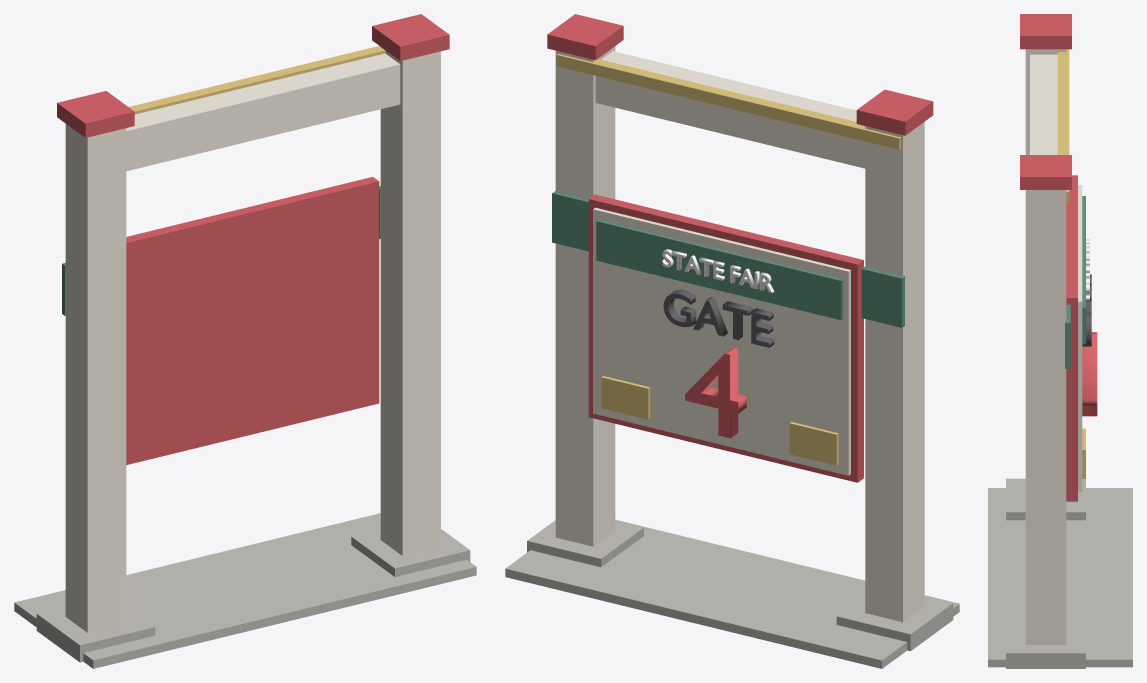
Rendered from state-fair-gate-04.glb.
3 renders of one model, left to right at view 1: azimuth 30°, elevation 25°; view 2: azimuth 150°, elevation 25°; view 3: azimuth 270°, elevation 25°, orthographic. The views are drawn at different scales.
Visible parts, largest first — view 1: SFG_SignBack, SFG_PostL, SFG_PostR, SFG_Pad, SFG_HeaderBeam, SFG_FootingL, SFG_FootingR, SFG_PostCapL, SFG_PostCapR, SFG_HeaderAccent; view 2: SFG_SignFace, SFG_PostL, SFG_Pad, SFG_PostR, SFG_HeaderBeam, SFG_Ribbon, SFG_SignBack, SFG_HeaderAccent, SFG_FootingL, SFG_GateLabel, SFG_GateNumber, SFG_FootingR (+7 smaller); view 3: SFG_PostR, SFG_Pad, SFG_SignBack, SFG_FootingR, SFG_HeaderBeam, SFG_PostCapL, SFG_PostCapR, SFG_SignFace, SFG_HeaderAccent, SFG_FootingL, SFG_GateNumber, SFG_PostL (+4 smaller).
Boxes of the visible parts, box(x1,y1,x2,y2) form: SFG_SignBack: box(126, 177, 379, 464); SFG_PostL: box(65, 124, 126, 632); SFG_PostR: box(380, 47, 440, 555); SFG_Pad: box(14, 513, 476, 668); SFG_HeaderBeam: box(126, 53, 400, 171); SFG_FootingL: box(36, 606, 155, 662); SFG_FootingR: box(351, 529, 470, 576); SFG_PostCapL: box(57, 91, 134, 137); SFG_PostCapR: box(372, 14, 449, 60); SFG_HeaderAccent: box(129, 46, 385, 114); SFG_SignFace: box(593, 207, 850, 475); SFG_PostL: box(865, 122, 924, 622); SFG_Pad: box(505, 519, 959, 668); SFG_PostR: box(555, 46, 615, 546); SFG_HeaderBeam: box(595, 51, 865, 168); SFG_Ribbon: box(596, 220, 843, 320); SFG_SignBack: box(588, 194, 863, 482); SFG_HeaderAccent: box(556, 54, 900, 149); SFG_FootingL: box(836, 596, 953, 651); SFG_GateLabel: box(663, 289, 774, 347); SFG_GateNumber: box(685, 347, 746, 438); SFG_FootingR: box(527, 520, 643, 567); SFG_PostR: box(1025, 190, 1066, 644); SFG_Pad: box(988, 488, 1132, 667); SFG_SignBack: box(1066, 175, 1077, 501); SFG_FootingR: box(1006, 619, 1085, 668); SFG_HeaderBeam: box(1030, 54, 1057, 154); SFG_PostCapL: box(1020, 14, 1071, 49); SFG_PostCapR: box(1020, 155, 1071, 189); SFG_SignFace: box(1078, 185, 1082, 491); SFG_HeaderAccent: box(1057, 49, 1069, 202); SFG_FootingL: box(1006, 478, 1085, 520); SFG_GateNumber: box(1082, 332, 1097, 416); SFG_PostL: box(1025, 49, 1066, 154).
Bounding box in the file's own units: 2.85 × 3.7 × 1.
